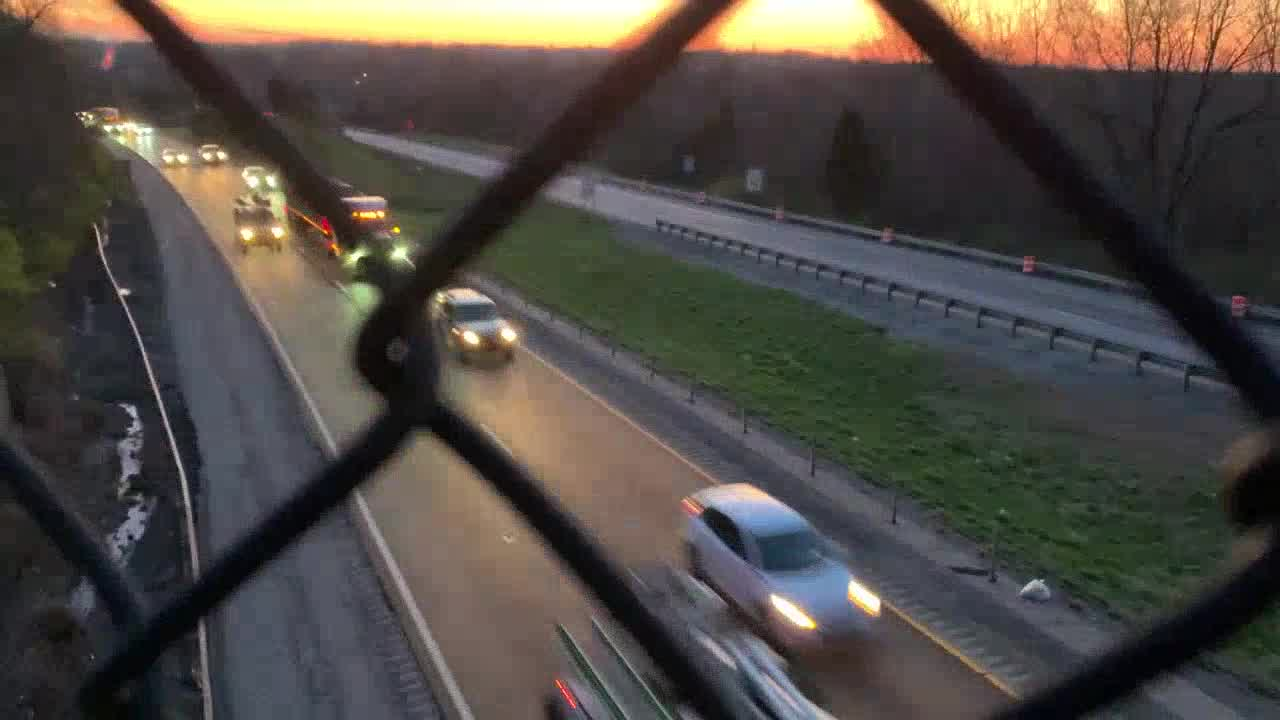largeCar: (681, 480, 884, 643)
